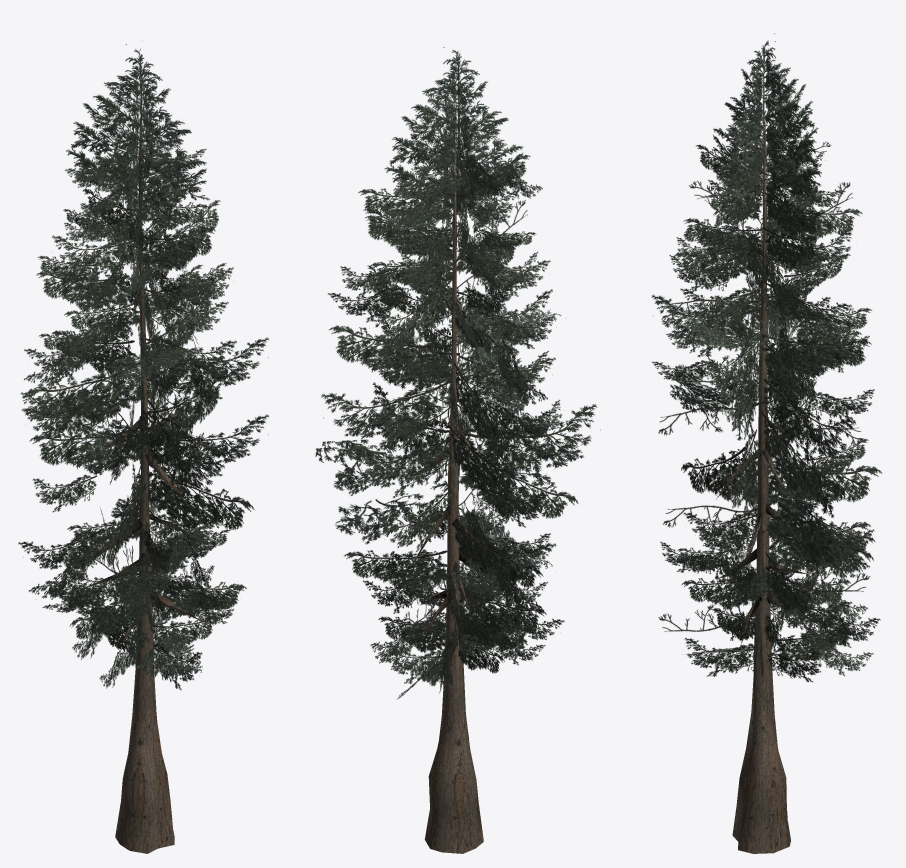
Rendered from tree_01.glb.
3 views of the same model, side by side, from view 1: azimuth 30°, elevation 25°; view 2: azimuth 150°, elevation 25°; view 3: azimuth 270°, elevation 25° (orthographic).
Visible parts, largest first — view 1: Tree_Branches_01_Tree_Branches_01_0.001, Tree_Trunk_01.001_Tree_Trunk_01_0.001; view 2: Tree_Branches_01_Tree_Branches_01_0.001, Tree_Trunk_01.001_Tree_Trunk_01_0.001; view 3: Tree_Branches_01_Tree_Branches_01_0.001, Tree_Trunk_01.001_Tree_Trunk_01_0.001.
Part boxes in pixels (x1,y1,x2,y2): Tree_Branches_01_Tree_Branches_01_0.001: [18, 40, 268, 689]; Tree_Trunk_01.001_Tree_Trunk_01_0.001: [83, 134, 200, 853]; Tree_Branches_01_Tree_Branches_01_0.001: [315, 47, 600, 699]; Tree_Trunk_01.001_Tree_Trunk_01_0.001: [404, 129, 506, 853]; Tree_Branches_01_Tree_Branches_01_0.001: [651, 33, 882, 682]; Tree_Trunk_01.001_Tree_Trunk_01_0.001: [716, 114, 814, 853].
Bounding box in the file's own units: 7.81 × 25.41 × 7.49.
2 materials, 2 textured.
